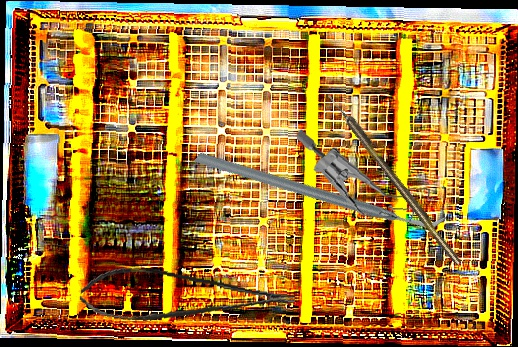Chopper: (193, 69, 448, 310)
Hook Surgical: (325, 89, 463, 268)
Micro Scissor: (77, 258, 297, 345)
Speculum: (290, 129, 439, 225)
